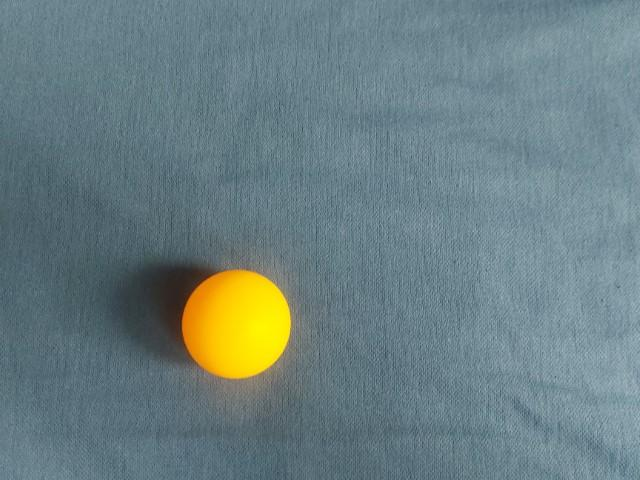oball: (345, 98, 463, 215)
